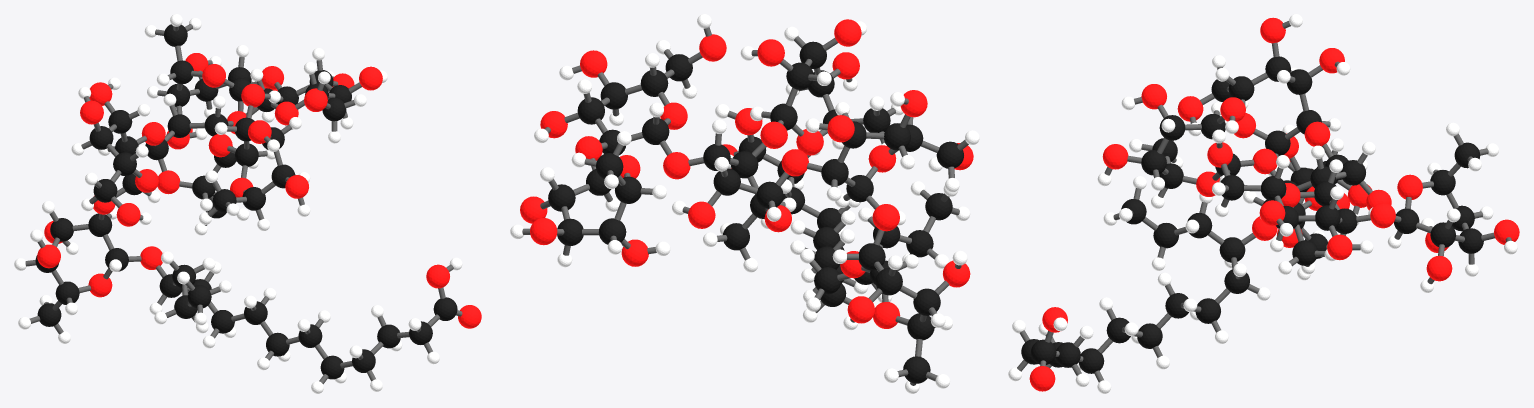
File: molecule.glb
The picture shows the model from 3 angles, left to right: view 1: azimuth 30°, elevation 25°; view 2: azimuth 150°, elevation 25°; view 3: azimuth 270°, elevation 25°; orthographic projection. The views are drawn at different scales.
Parts seen in each view (by area): view 1: geometry_15, geometry_62, geometry_33, geometry_31, geometry_68, geometry_49, geometry_22, geometry_60, geometry_53, geometry_13, geometry_37, geometry_39 (+28 smaller); view 2: geometry_51, geometry_53, geometry_43, geometry_24, geometry_26, geometry_35, geometry_60, geometry_78, geometry_74, geometry_37, geometry_55, geometry_62 (+46 smaller); view 3: geometry_76, geometry_14, geometry_49, geometry_64, geometry_66, geometry_37, geometry_51, geometry_33, geometry_68, geometry_62, geometry_43, geometry_31 (+27 smaller).
Boxes of the visible parts, x1,y1,x2,y2 form: geometry_15: [426, 264, 449, 288]; geometry_62: [359, 66, 382, 90]; geometry_33: [80, 100, 103, 124]; geometry_31: [116, 203, 140, 226]; geometry_68: [202, 64, 225, 87]; geometry_49: [285, 175, 308, 198]; geometry_22: [37, 244, 60, 268]; geometry_60: [304, 88, 327, 111]; geometry_53: [241, 83, 264, 107]; geometry_13: [433, 297, 457, 320]; geometry_37: [141, 122, 165, 145]; geometry_39: [157, 170, 180, 194]; geometry_51: [834, 19, 861, 46]; geometry_53: [757, 39, 784, 66]; geometry_43: [760, 121, 787, 148]; geometry_24: [847, 296, 874, 323]; geometry_26: [872, 204, 899, 231]; geometry_35: [827, 115, 854, 142]; geometry_60: [699, 34, 726, 61]; geometry_78: [688, 201, 715, 228]; geometry_74: [530, 218, 557, 245]; geometry_37: [781, 149, 808, 176]; geometry_55: [663, 152, 690, 179]; geometry_62: [580, 50, 607, 77]; geometry_76: [1426, 255, 1452, 281]; geometry_14: [1029, 366, 1055, 391]; geometry_49: [1102, 144, 1128, 169]; geometry_64: [1327, 234, 1352, 260]; geometry_66: [1370, 202, 1395, 228]; geometry_37: [1304, 121, 1330, 146]; geometry_51: [1141, 84, 1166, 109]; geometry_33: [1260, 17, 1285, 43]; geometry_68: [1397, 174, 1422, 199]; geometry_62: [1259, 200, 1285, 225]; geometry_43: [1252, 148, 1277, 174]; geometry_31: [1177, 96, 1203, 121].
Bounding box in the file's own units: 0.2221 × 0.1622 × 0.258.
